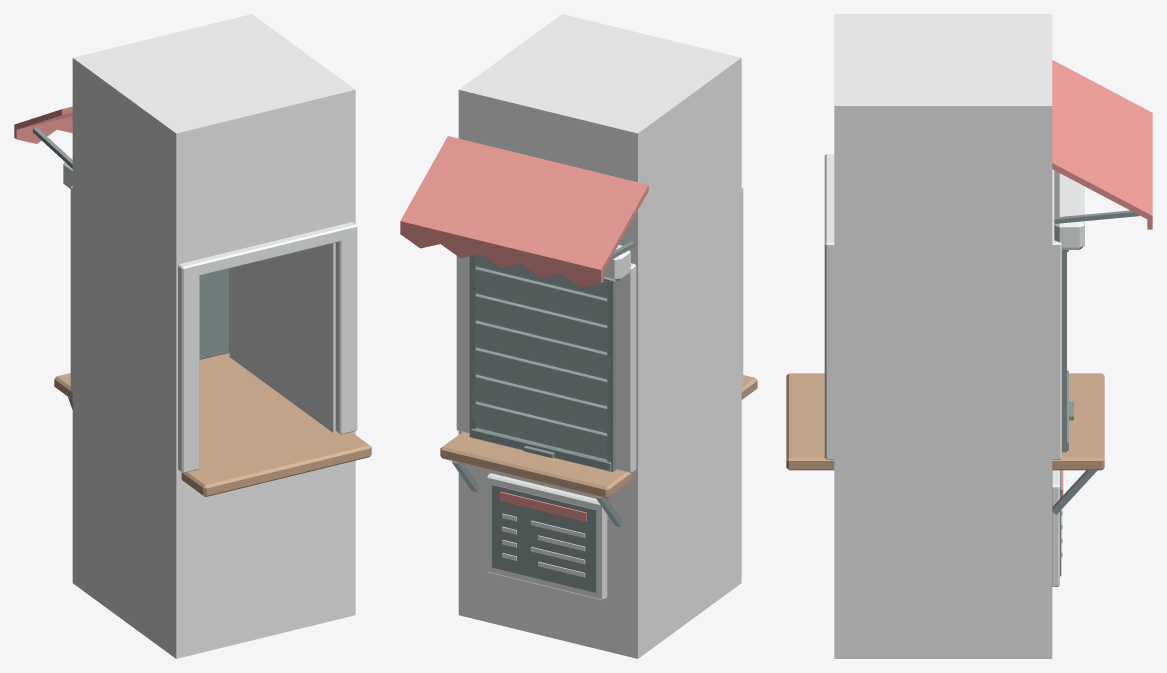
File: walkup_hatch_painted.glb
3 views of the same model, side by side, from view 1: azimuth 30°, elevation 25°; view 2: azimuth 150°, elevation 25°; view 3: azimuth 270°, elevation 25° (orthographic). The views are drawn at different scales.
Visible parts, largest first — view 1: WallBody, Frame, LedgeSill, LedgeInner, ShutterClosed, Awning, LedgeOuter; view 2: WallBody, ShutterClosed, Awning, MenuBoard, Frame, LedgeOuter, ShutterHousing; view 3: WallBody, Awning, Frame, LedgeOuter, LedgeInner, ShutterHousing, MenuBoard.
Boxes of the visible parts, bbox=[...] form: WallBody: bbox=[72, 14, 355, 658]; Frame: bbox=[70, 185, 357, 473]; LedgeSill: bbox=[199, 358, 331, 464]; LedgeInner: bbox=[181, 432, 371, 497]; ShutterClosed: bbox=[199, 269, 228, 359]; Awning: bbox=[14, 106, 72, 168]; LedgeOuter: bbox=[54, 353, 230, 409]; WallBody: bbox=[458, 14, 741, 658]; ShutterClosed: bbox=[470, 254, 611, 471]; Awning: bbox=[400, 136, 648, 287]; MenuBoard: bbox=[486, 473, 607, 600]; Frame: bbox=[456, 186, 743, 472]; LedgeOuter: bbox=[440, 432, 632, 527]; ShutterHousing: bbox=[603, 245, 630, 281]; WallBody: bbox=[834, 14, 1052, 658]; Awning: bbox=[1052, 60, 1152, 229]; Frame: bbox=[824, 154, 1066, 459]; LedgeOuter: bbox=[1052, 373, 1104, 514]; LedgeInner: bbox=[786, 373, 834, 470]; ShutterHousing: bbox=[1054, 170, 1084, 249]; MenuBoard: bbox=[1052, 470, 1063, 586].
Size of the model in its own units: 0.5091 by 1.27 by 0.7636.
